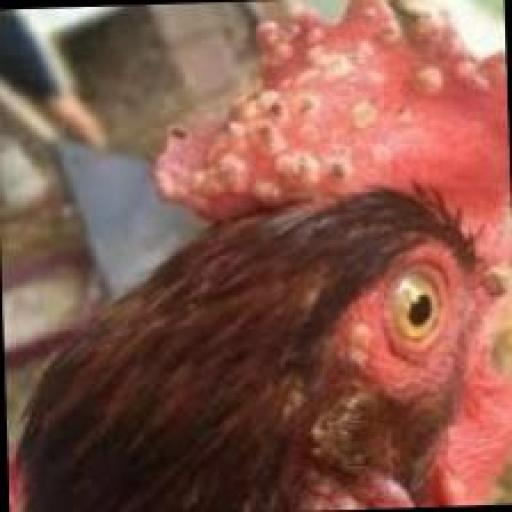disease: (134, 2, 512, 214), (330, 300, 396, 401)
